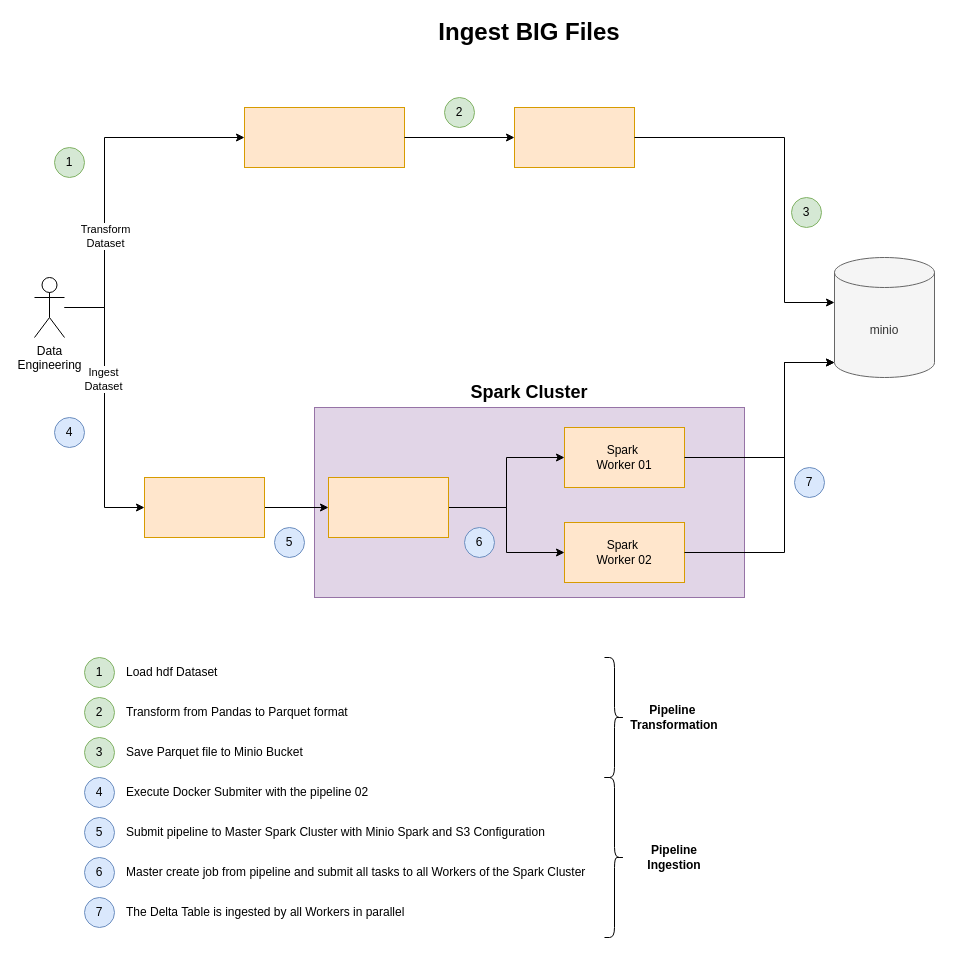
The diagram is 971 pixels wide and 955 high, and some of its shapes have lost their labels. The centre of each missing label's shape, as x and y in pixels:
"Save to Bucket" belongs at point (574, 137).
"Spark Master" belongs at point (388, 507).
"Spark Submit" belongs at point (204, 507).
"Transform hdz --> pandas --> parquet" belongs at point (324, 137).
